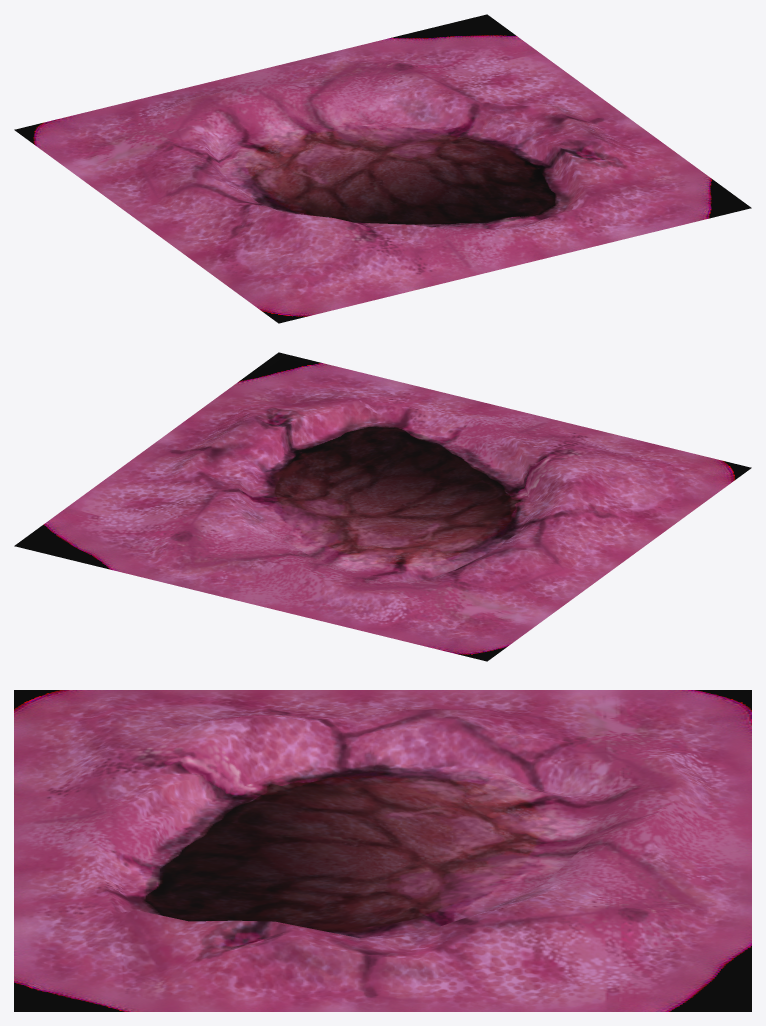
Rendered from bujero.FBX.
3 renders of one model, top to bottom at view 1: azimuth 30°, elevation 25°; view 2: azimuth 150°, elevation 25°; view 3: azimuth 270°, elevation 25°, orthographic. The views are drawn at different scales.
Visible parts, largest first — view 1: bujero; view 2: bujero; view 3: bujero.
Boxes of the visible parts, <box> form: bujero: <box>14,14,751,323</box>; bujero: <box>14,352,751,661</box>; bujero: <box>14,690,751,1011</box>.
Bounding box in the file's own units: 636 × 43.36 × 616.
